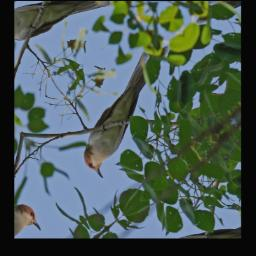Cuckoo: (55, 34, 204, 183)
